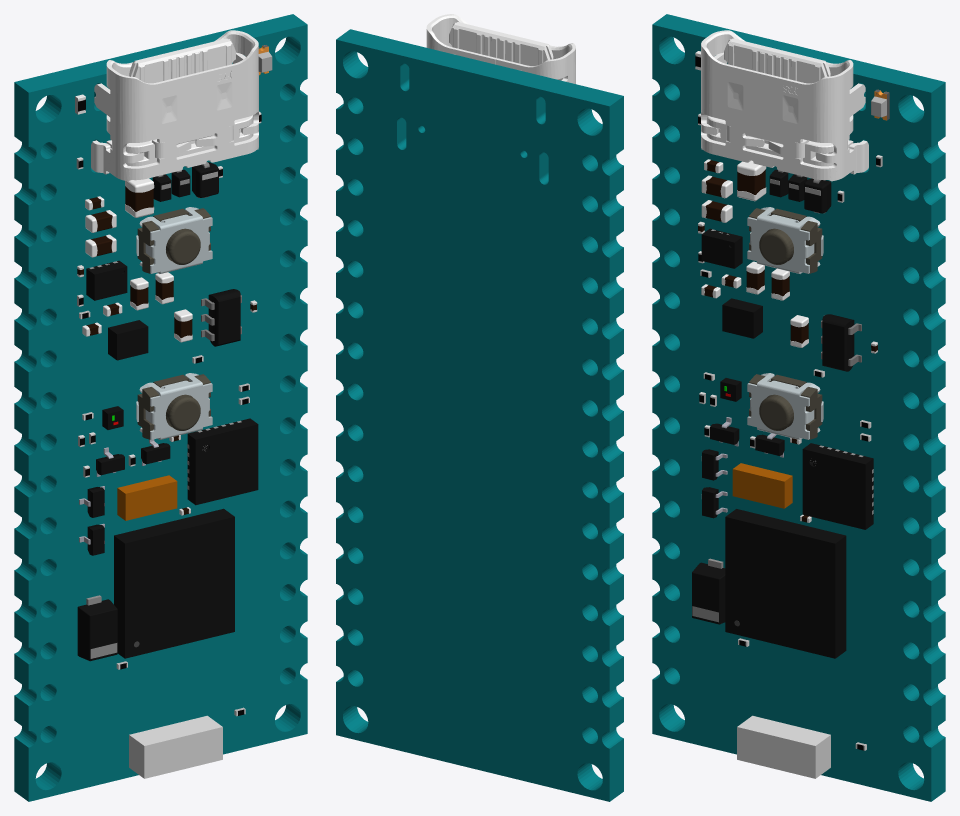
Rendered from arduino-nano-matter.glb.
3 views of the same model, side by side, from view 1: azimuth 30°, elevation 25°; view 2: azimuth 150°, elevation 25°; view 3: azimuth 330°, elevation 25° (orthographic).
Bounding box in the file's own units: 17.78 × 44.29 × 4.78.
